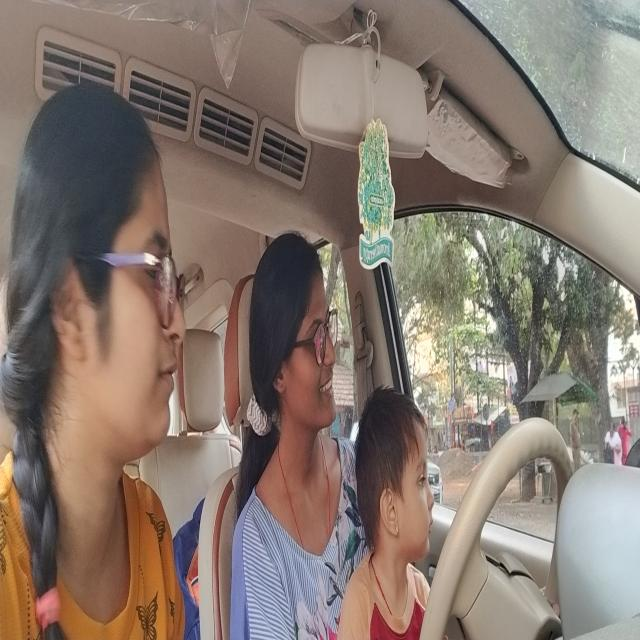child: (353, 376, 439, 565)
person: (3, 65, 184, 473), (242, 212, 340, 444)
